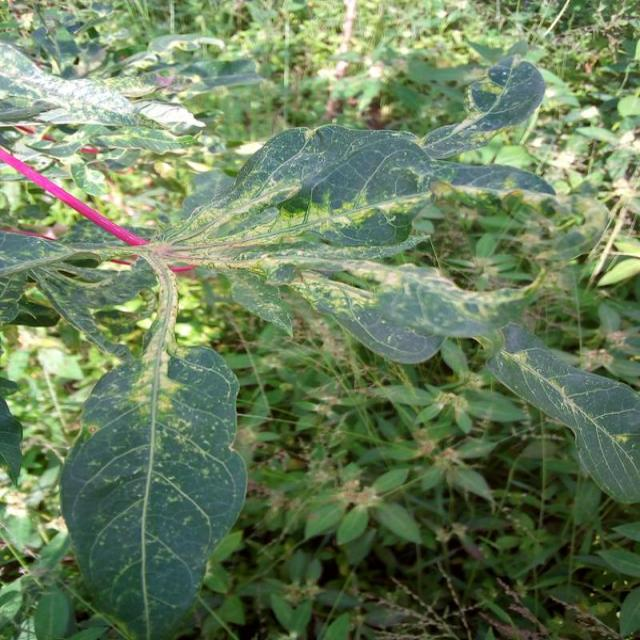cassava leaf: (58, 340, 248, 638), (485, 321, 638, 506)
